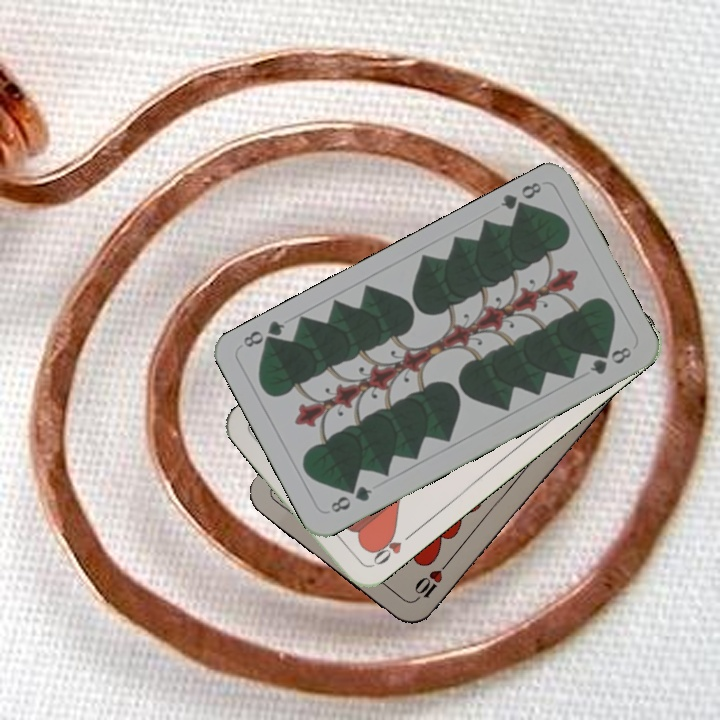G8: (496, 178, 545, 218), (326, 481, 375, 516)
H10: (410, 556, 453, 605)
HO: (365, 527, 416, 570)
